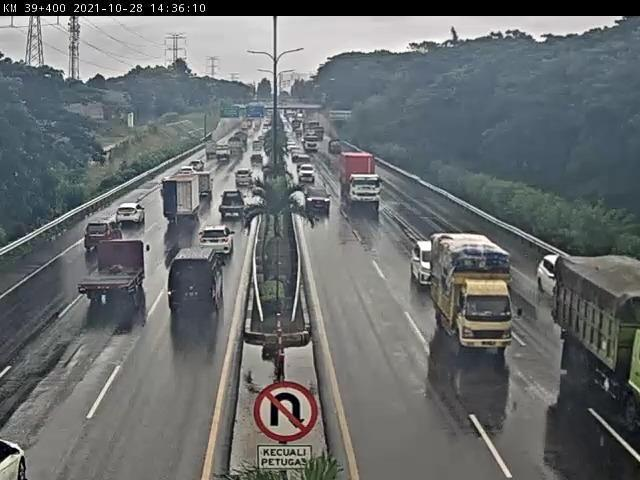car: (172, 246, 231, 321), (2, 431, 41, 480), (409, 238, 438, 292), (543, 253, 567, 302), (117, 196, 146, 236), (89, 216, 118, 252), (204, 226, 235, 257), (309, 187, 335, 215), (224, 188, 243, 223), (300, 164, 315, 187), (240, 169, 254, 190)
truck: (566, 261, 640, 437), (436, 239, 527, 355), (90, 240, 152, 303), (341, 153, 389, 211), (164, 171, 211, 225)
